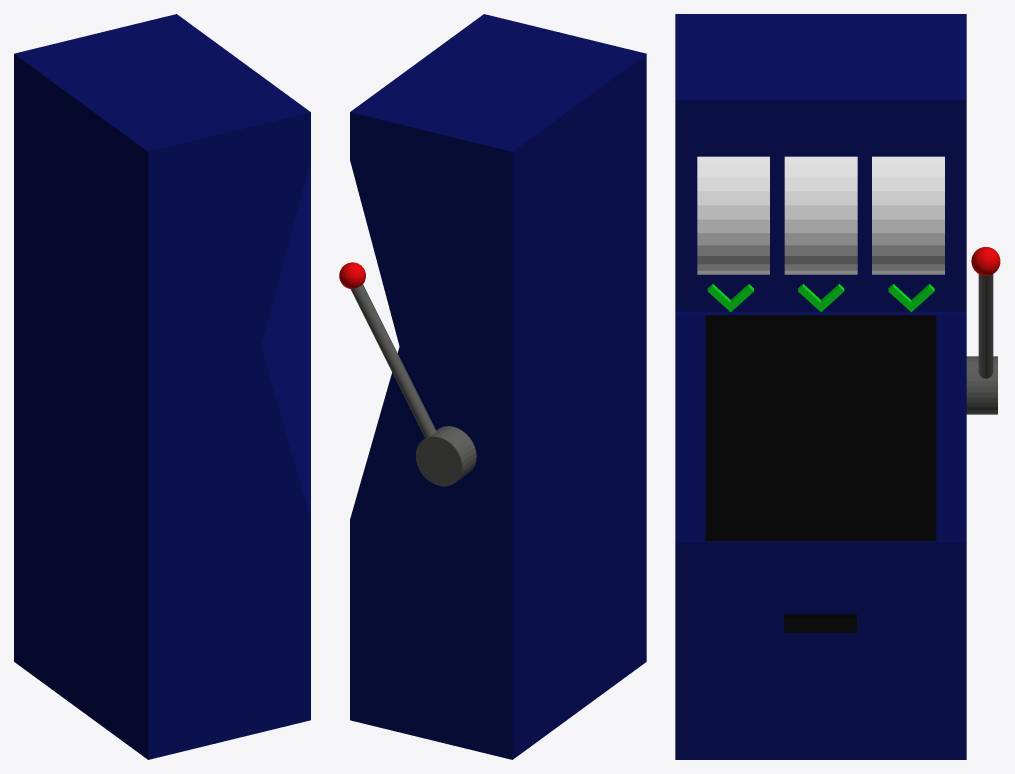
File: automat.fbx
The picture shows the model from 3 angles, left to right: view 1: azimuth 30°, elevation 25°; view 2: azimuth 150°, elevation 25°; view 3: azimuth 270°, elevation 25°; orthographic projection. The views are drawn at different scales.
Parts seen in each view (by area): view 1: AUTOMAT; view 2: AUTOMAT, DZWIGNIA1, DZWIGNIA2, DZWIGNIA3; view 3: AUTOMAT, BEBEN2, BEBEN1, BEBEN3, DZWIGNIA2, DZWIGNIA1, DZWIGNIA3, B3_DOL, B1_DOL, B2_DOL.
Boxes of the visible parts, x1,y1,x2,y2 form: AUTOMAT: [14, 14, 310, 759]; AUTOMAT: [350, 14, 646, 759]; DZWIGNIA1: [415, 426, 476, 486]; DZWIGNIA2: [350, 284, 436, 438]; DZWIGNIA3: [339, 262, 365, 288]; AUTOMAT: [675, 14, 966, 759]; BEBEN2: [784, 156, 857, 274]; BEBEN1: [697, 156, 769, 274]; BEBEN3: [872, 156, 944, 274]; DZWIGNIA2: [978, 274, 993, 378]; DZWIGNIA1: [966, 356, 997, 414]; DZWIGNIA3: [971, 247, 1000, 275]; B3_DOL: [888, 284, 934, 312]; B1_DOL: [707, 284, 753, 311]; B2_DOL: [798, 284, 844, 311].
Bounding box in the file's own units: 140 × 500 × 223.
